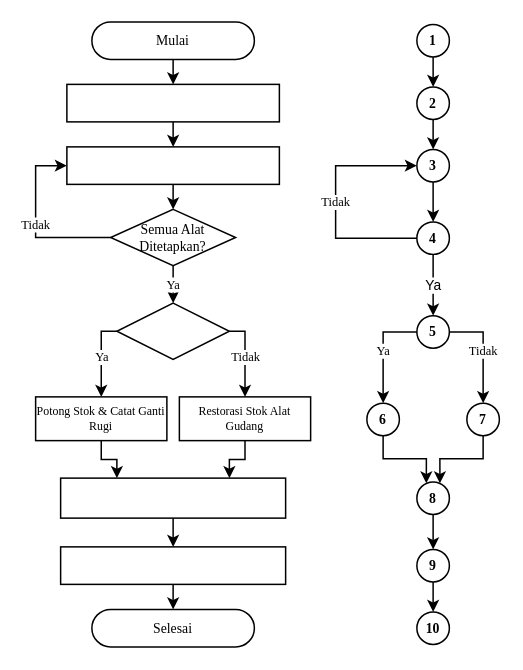
Some shapes in this 523 by 670 pixel diagram are drawn without their labels. The shapes that lost their labels are listed below. From the top down, each one's centre as x and y in pixels, then its label:
[173,102]: Akses Menu Selesaikan Rumah
[173,165]: Input Status Seluruh Alat Aktif
[173,331]: Ada Alat Hilang?
[172,497]: Kunci Status Rumah Menjadi Selesai
[172,565]: Menampilkan Pesan Berhasil
